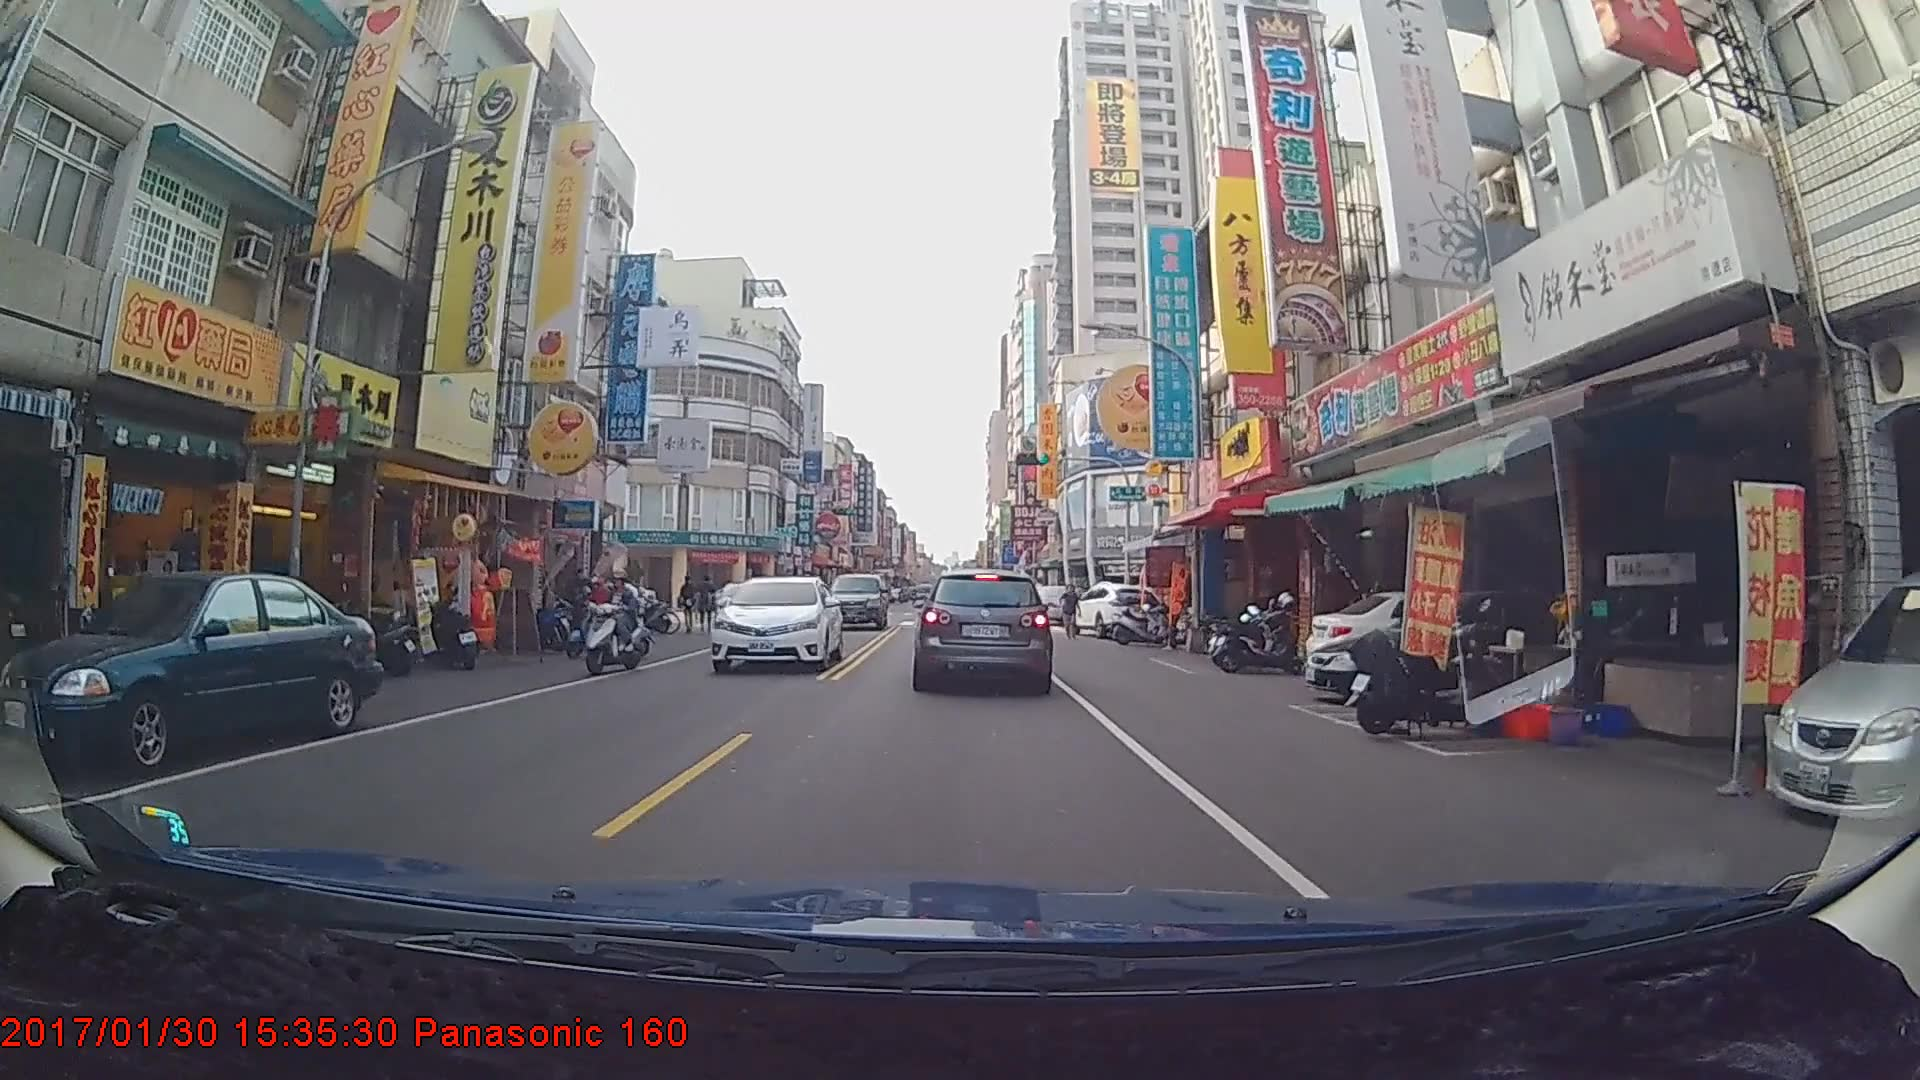pedestrian: (1060, 583, 1081, 640)
rider: (582, 564, 654, 680)
vehicle: (0, 570, 372, 771), (1759, 560, 1917, 828), (913, 566, 1052, 691), (709, 574, 844, 672), (1067, 580, 1166, 639), (822, 571, 889, 631)
